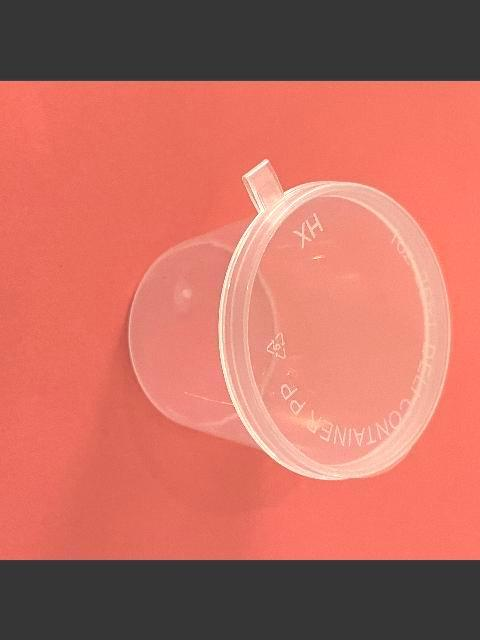plasticcontainer: (123, 152, 454, 484)
